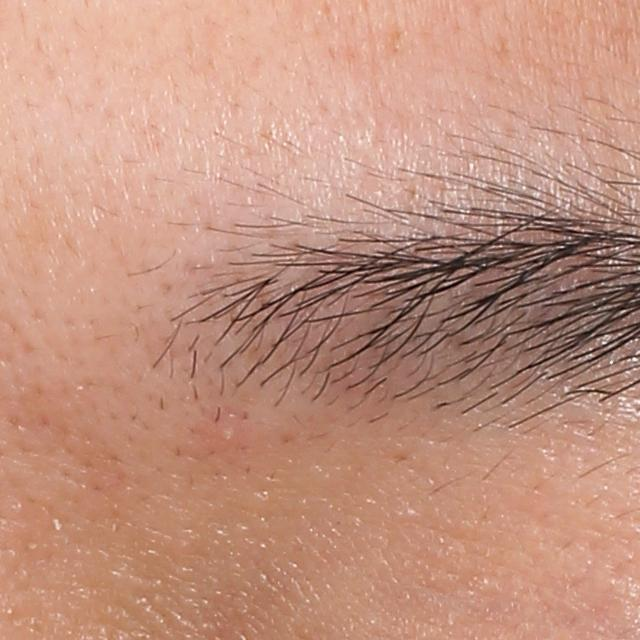pustule: (214, 425, 241, 447)
